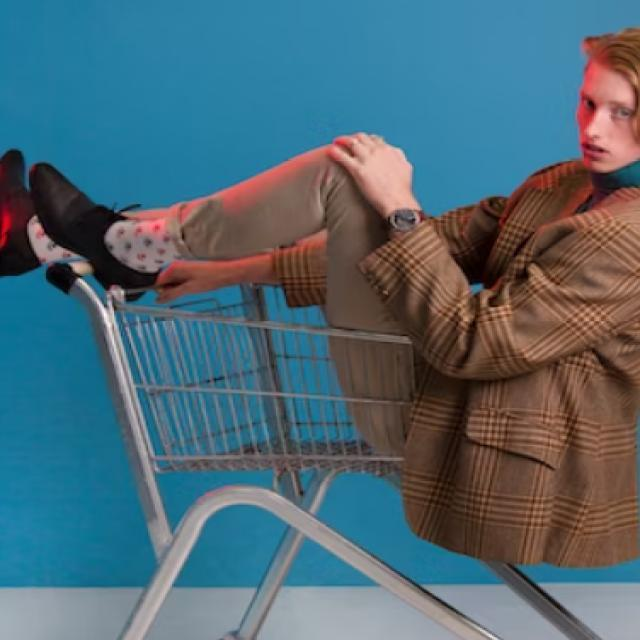Watch: (378, 204, 433, 232)
